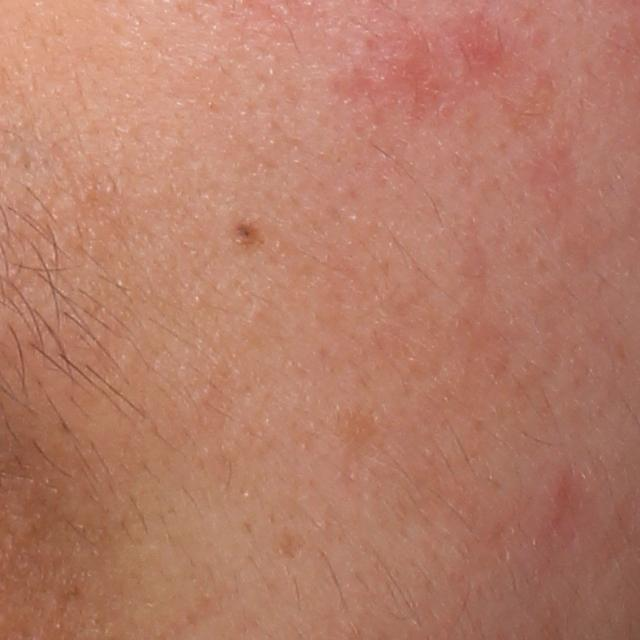nevus: (231, 220, 262, 249)
